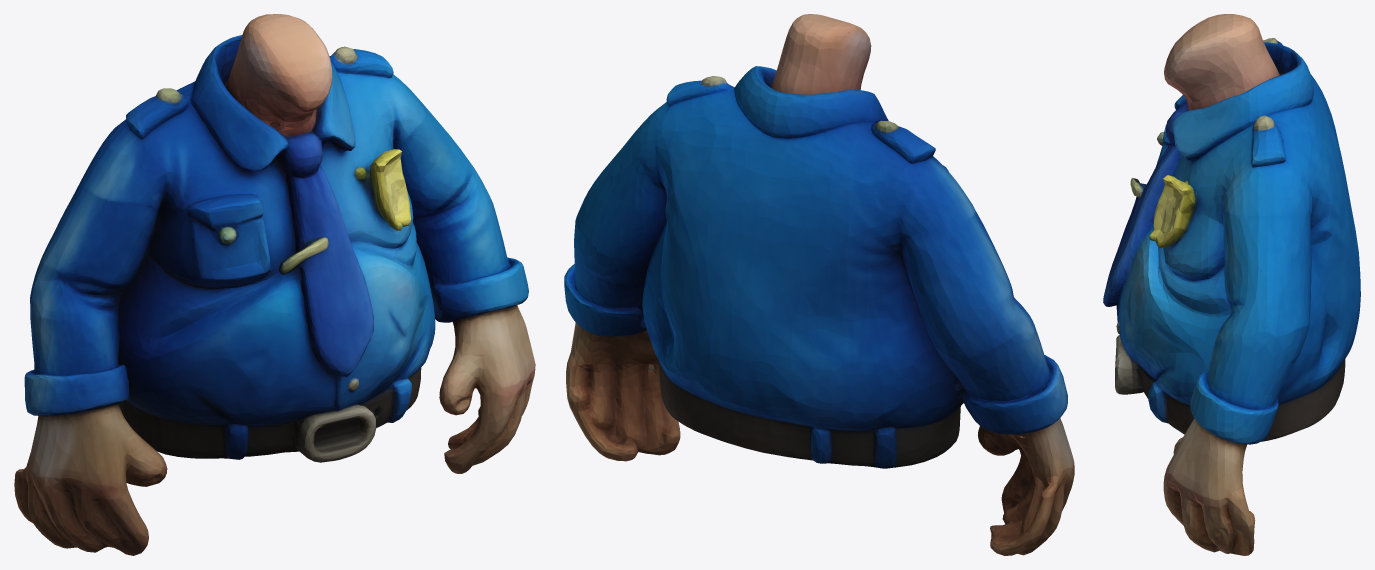
The model's file is policial-body-3d.glb.
3 views of the same model, side by side, from view 1: azimuth 30°, elevation 25°; view 2: azimuth 150°, elevation 25°; view 3: azimuth 270°, elevation 25° (orthographic). The views are drawn at different scales.
Parts seen in each view (by area): view 1: world; view 2: world; view 3: world.
Part boxes in pixels (bbox=[...]): world: bbox=[14, 14, 535, 555]; world: bbox=[564, 14, 1074, 555]; world: bbox=[1103, 14, 1360, 555].
Size of the model in its own units: 0.9982 by 0.9314 by 0.4859.
1 material, 1 textured.
